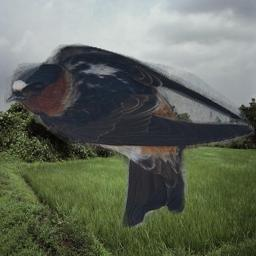Swallow: (4, 41, 255, 228)
